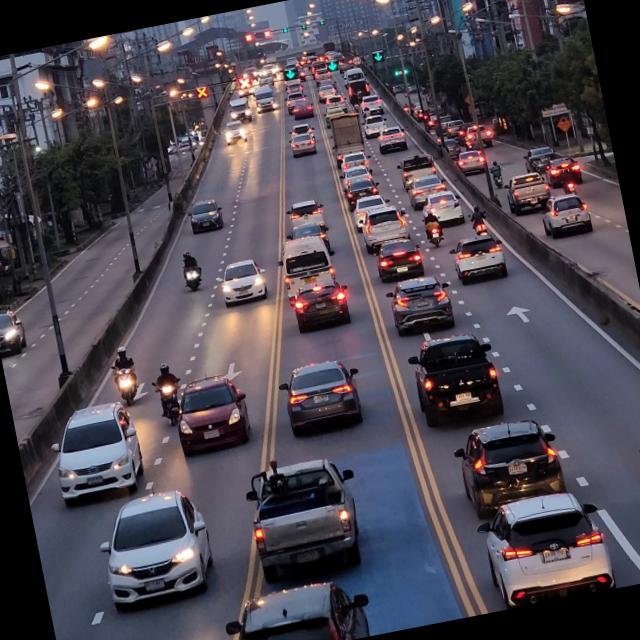Vehicle: (472, 483, 618, 612), (92, 486, 224, 613), (238, 453, 366, 580), (446, 412, 569, 518), (206, 571, 376, 640), (44, 397, 149, 507), (272, 355, 368, 443), (166, 369, 254, 456), (379, 266, 455, 337), (272, 228, 341, 306), (448, 234, 512, 286), (290, 282, 352, 334), (537, 194, 594, 244), (212, 256, 266, 308), (372, 234, 426, 284), (622, 417, 640, 532)
